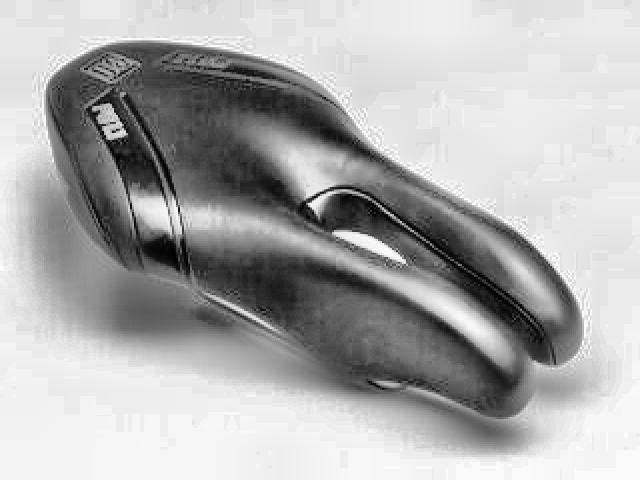saddle: (40, 39, 588, 424)
